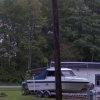Boat: (23, 62, 99, 95)
